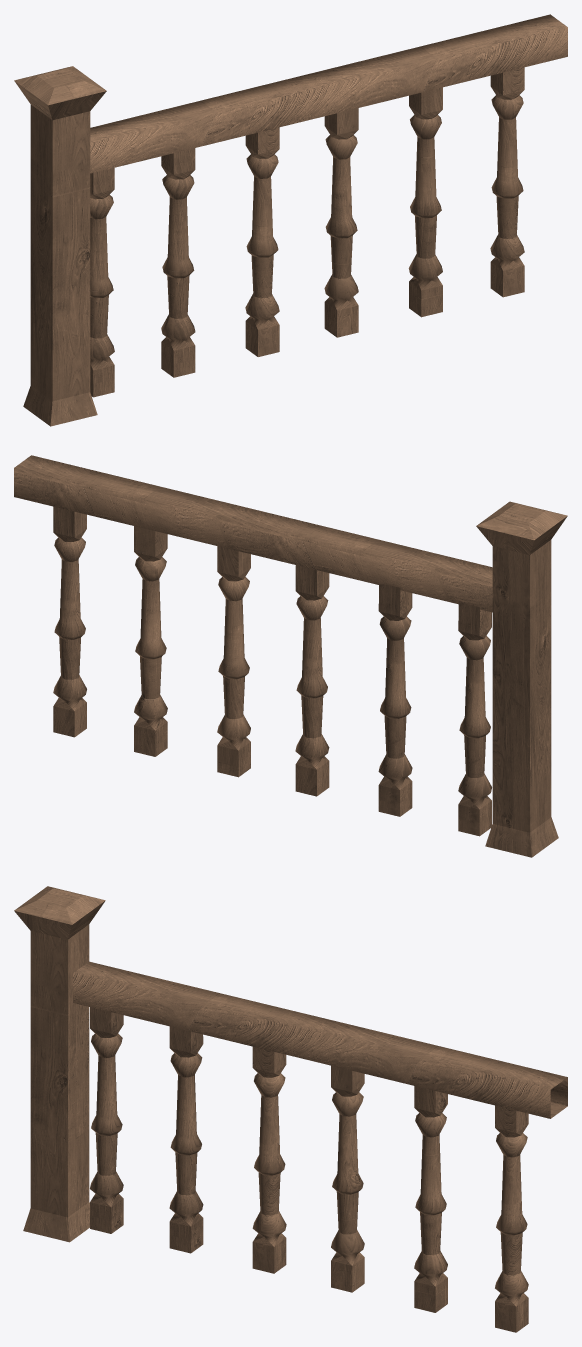
Rendered from RailingInt1endA.fbx.
The picture shows the model from 3 angles, top to bottom: view 1: azimuth 30°, elevation 25°; view 2: azimuth 150°, elevation 25°; view 3: azimuth 330°, elevation 25°; orthographic projection.
Parts seen in each view (by area): view 1: RailingInt1endA; view 2: RailingInt1endA; view 3: RailingInt1endA.
Part boxes in pixels (box(x1,y1,x2,y2)): RailingInt1endA: box(14, 14, 567, 426); RailingInt1endA: box(14, 455, 567, 857); RailingInt1endA: box(14, 886, 567, 1332).
Bounding box in the file's own units: 208 × 125 × 23.11.
